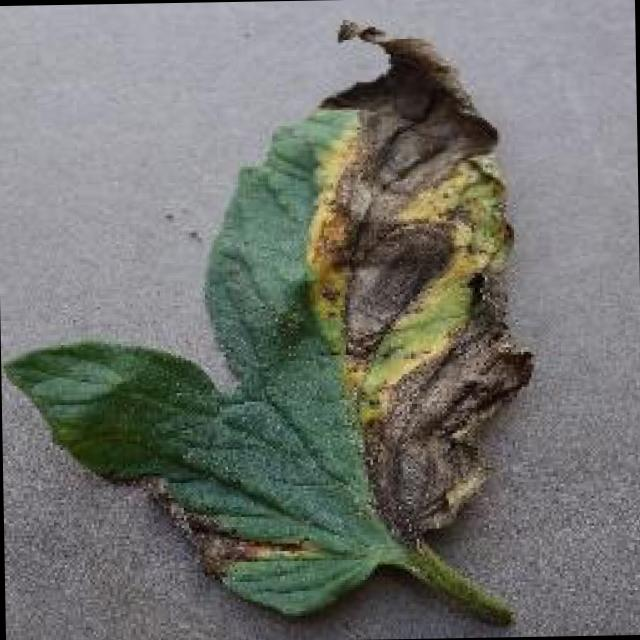Tomato_Early_Blight: (302, 0, 532, 568), (143, 468, 305, 589)
